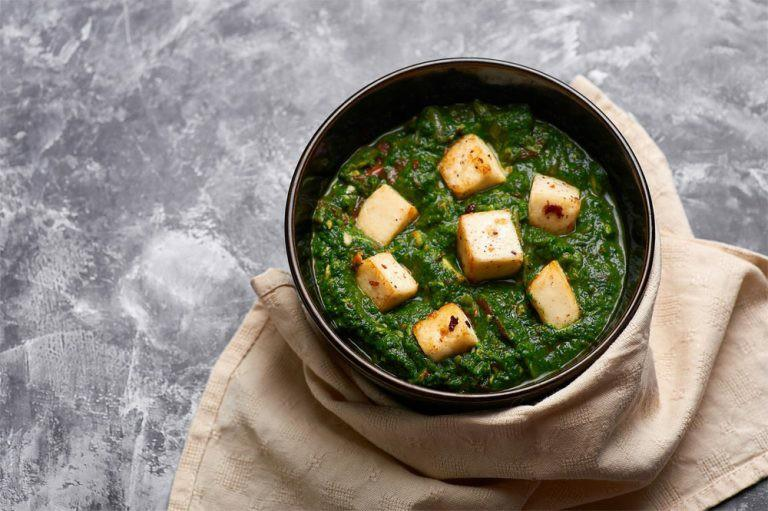PalakPaneer: (312, 104, 630, 392)
